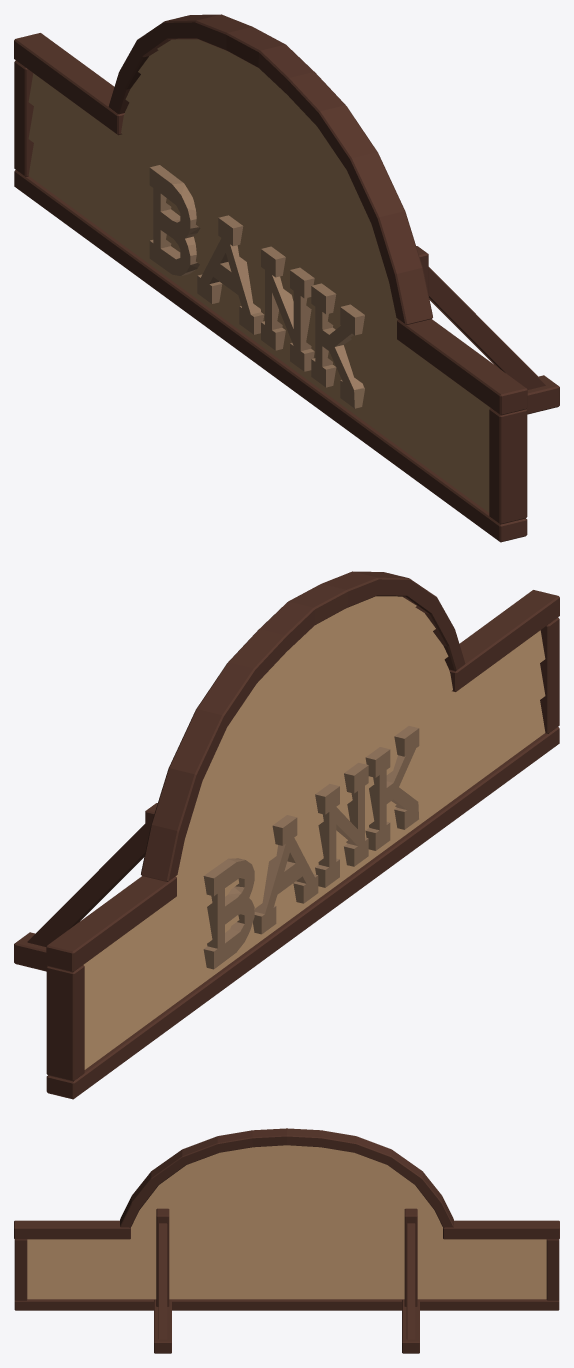
Rendered from bank-sign-b.glb.
3 renders of one model, top to bottom at view 1: azimuth 30°, elevation 25°; view 2: azimuth 150°, elevation 25°; view 3: azimuth 270°, elevation 25°, orthographic. The views are drawn at different scales.
Parts seen in each view (by area): view 1: Bank Sign B (×3); view 2: Bank Sign B (×3); view 3: Bank Sign B (×2).
Boxes of the visible parts, <box> form: Bank Sign B (×3): <box>14,14,559,542</box>; Bank Sign B (×3): <box>14,571,559,1099</box>; Bank Sign B (×2): <box>14,1128,559,1353</box>.
Size of the model in its own units: 1.46 by 2.35 by 6.6.
